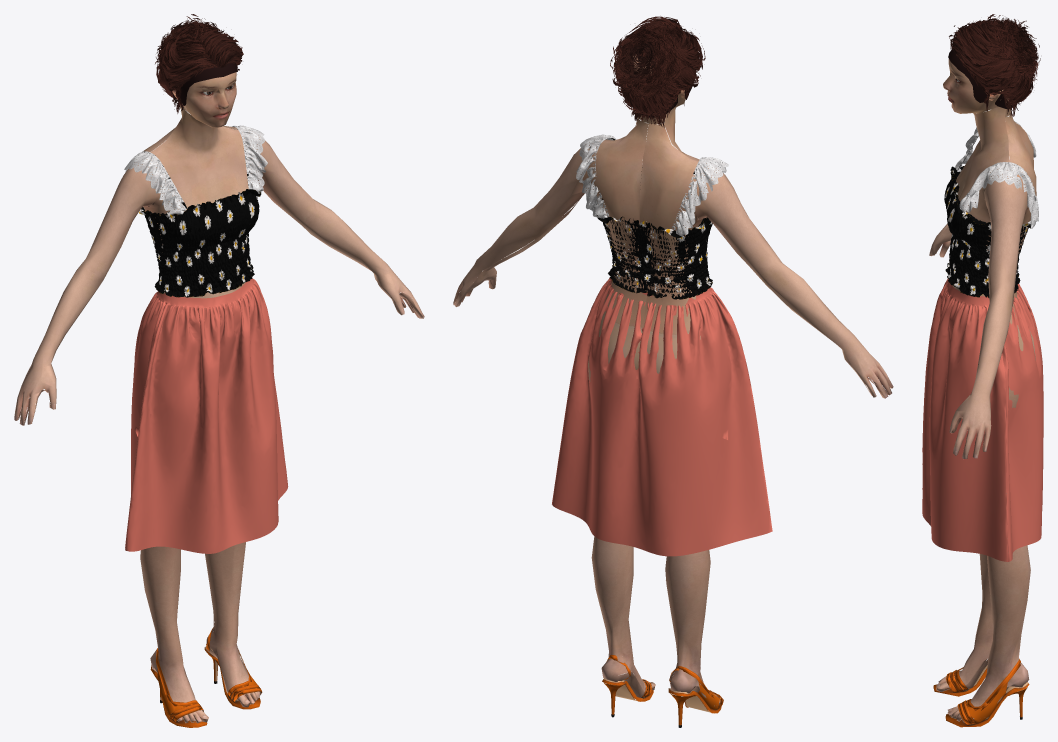
The picture shows the model from 3 angles, left to right: view 1: azimuth 30°, elevation 25°; view 2: azimuth 150°, elevation 25°; view 3: azimuth 270°, elevation 25°; orthographic projection. The views are drawn at different scales.
Visible parts, largest first — view 1: Cloth, Avatar; view 2: Cloth, Avatar; view 3: Cloth, Avatar.
Boxes of the visible parts, <box> form: Cloth: <box>124,125,288,553</box>; Avatar: <box>14,14,424,727</box>; Cloth: <box>552,134,772,556</box>; Avatar: <box>453,16,893,727</box>; Cloth: <box>922,120,1043,561</box>; Avatar: <box>929,14,1040,727</box>.
Bounding box in the file's own units: 1.09 × 1.7 × 0.2716.
23 materials, 22 textured.
